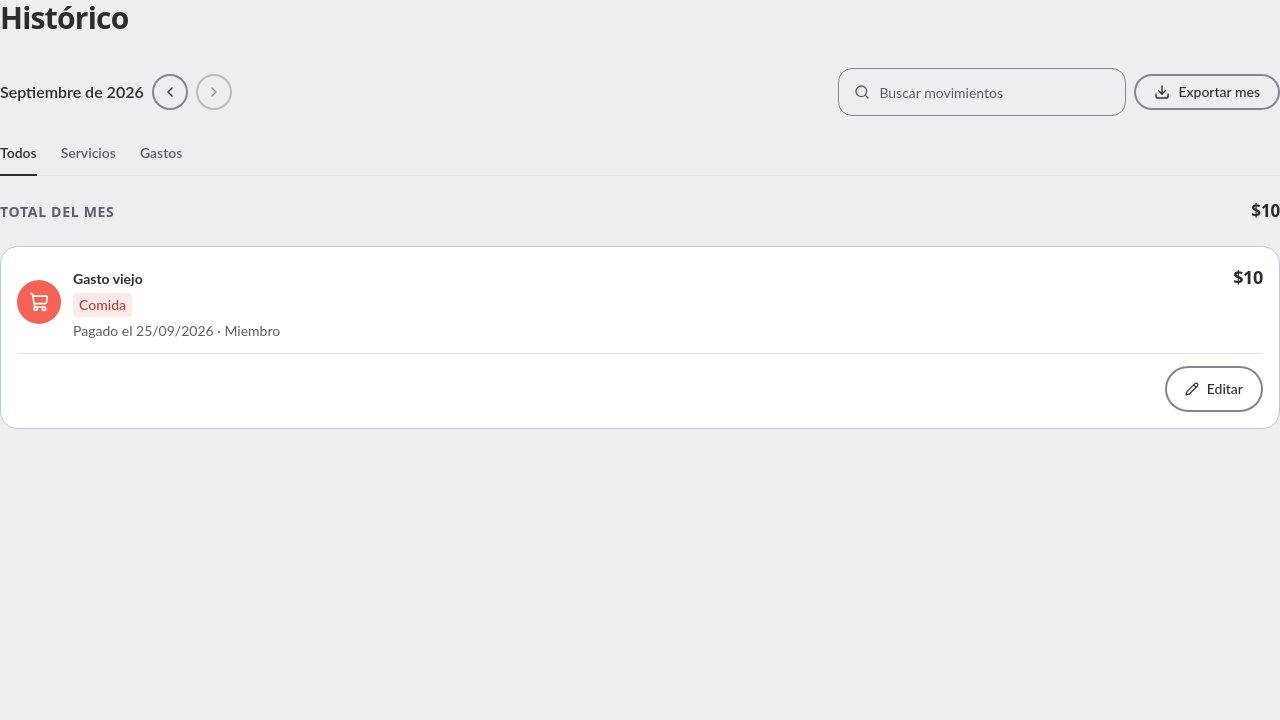
HistoricoPage › saves an edit to a past-month expense and reflects it in the feed
The width and height of the screenshot is (1280, 720).
Click the button with aria-label "Editar Gasto viejo". click: (1214, 389)
box: [1165,366,1263,412]
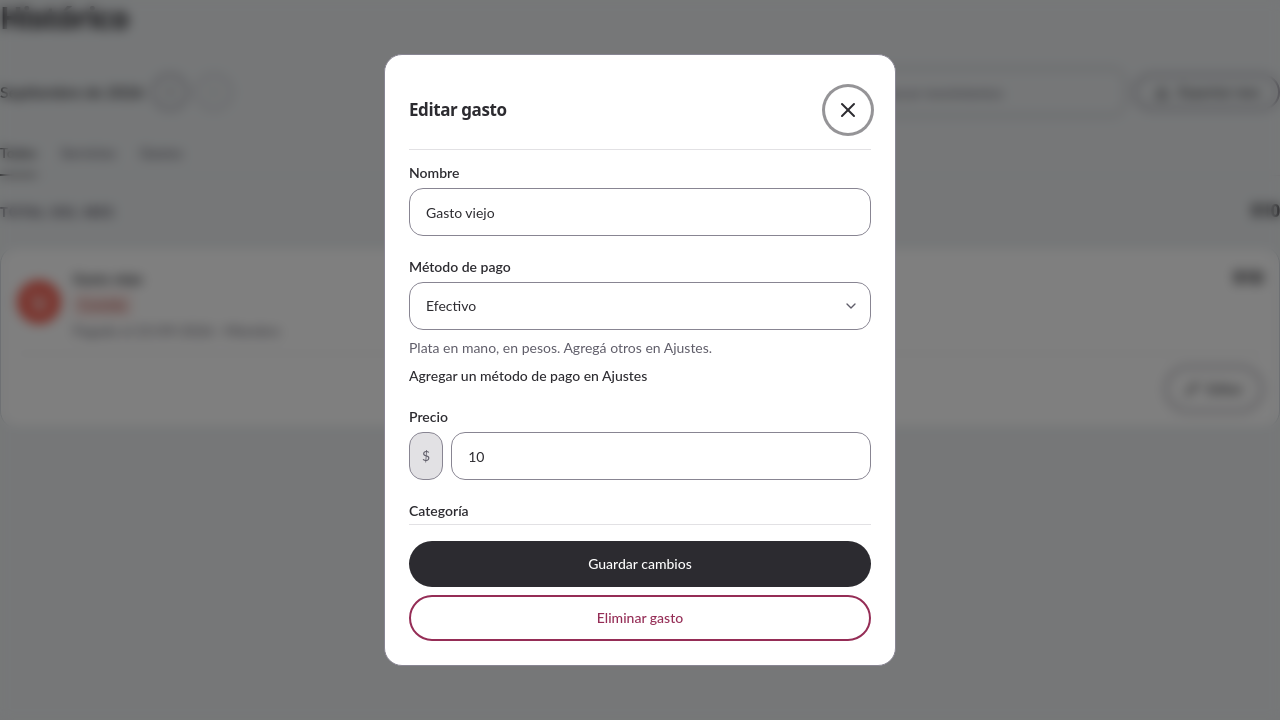
Replace the text in the field labelled "Nombre" with "Gasto corregido". click: (640, 212)
box: [409,188,871,236]
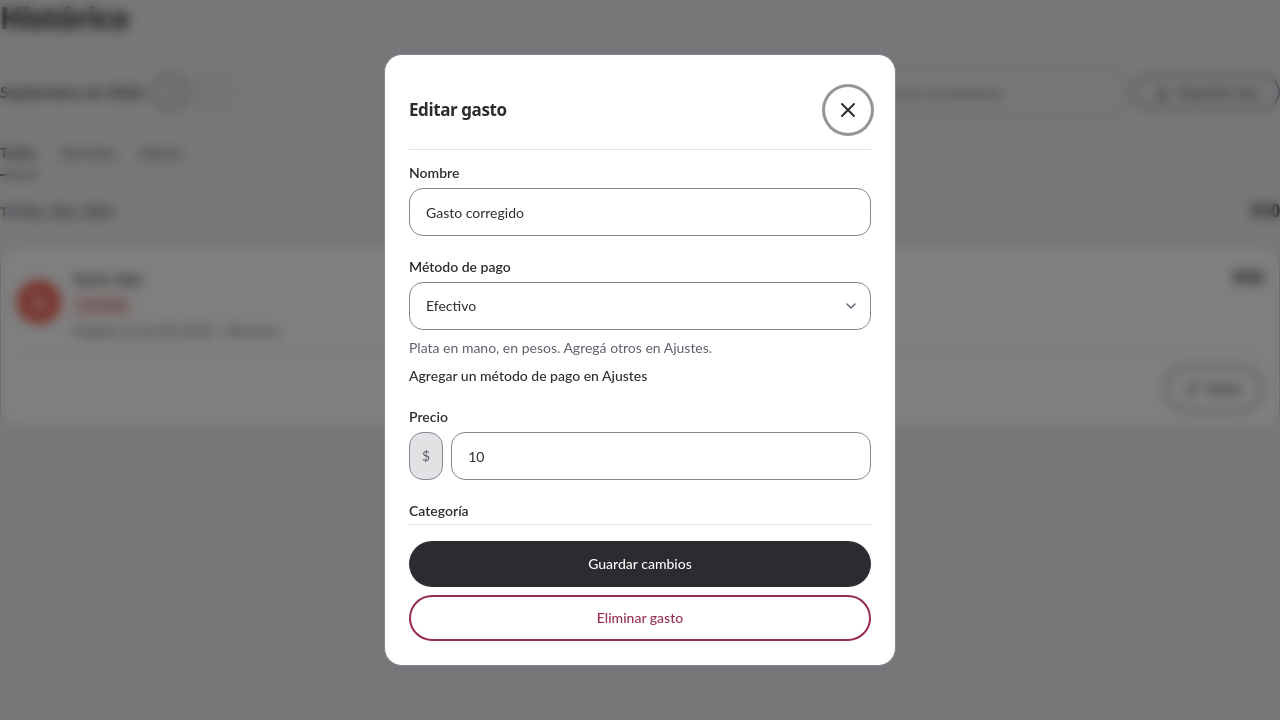
Click the button "Guardar cambios". click: (640, 564)
box: [409,541,871,587]
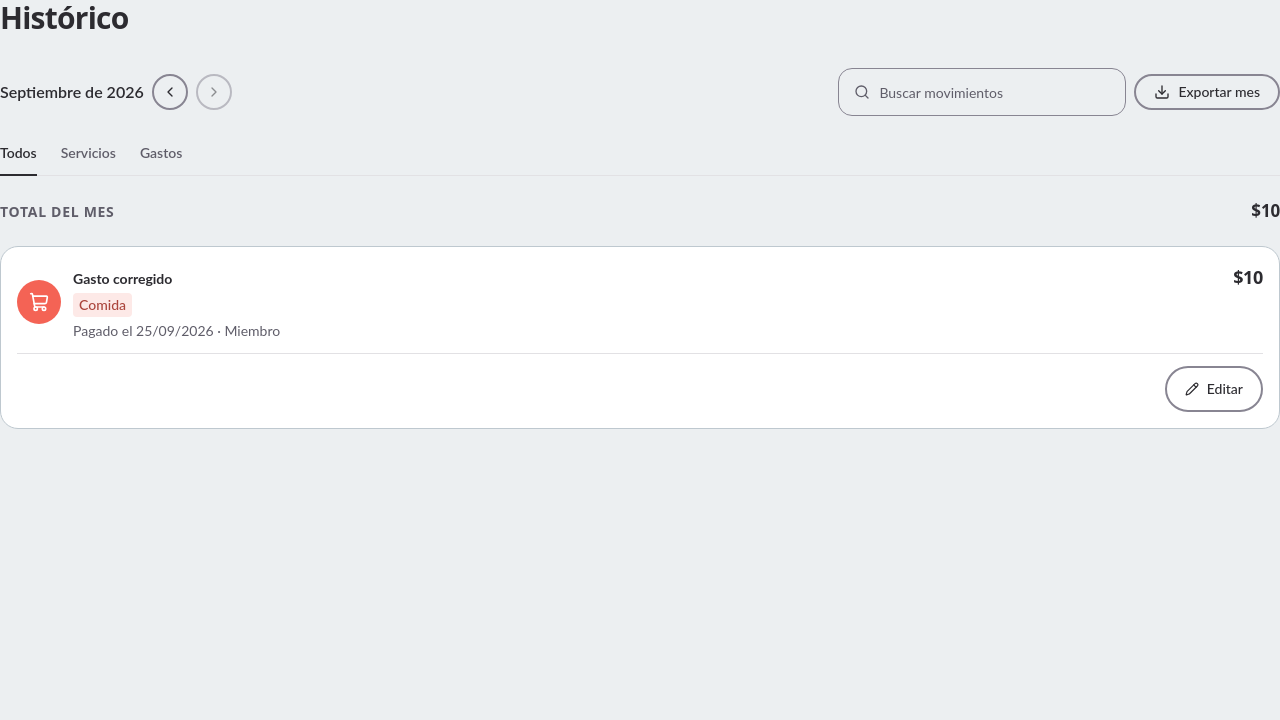
Now the text "Gasto corregido" is shown, box [73,269,172,289]
Now the text "Gasto viejo" is gone
